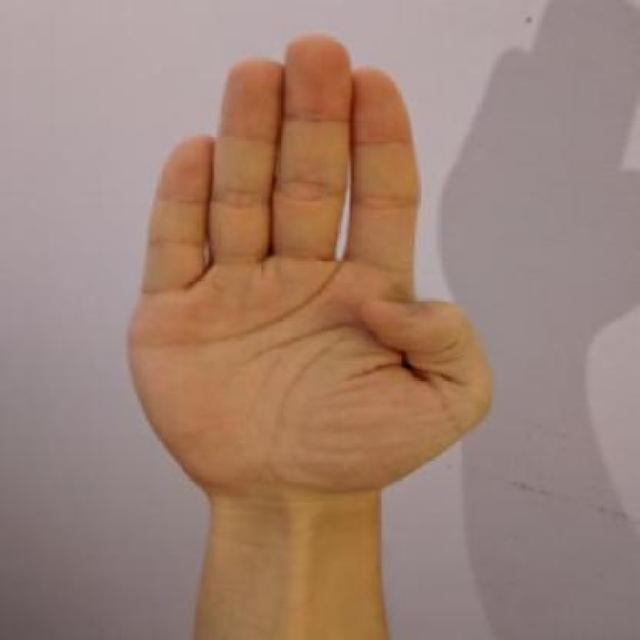B: (92, 8, 530, 535)
